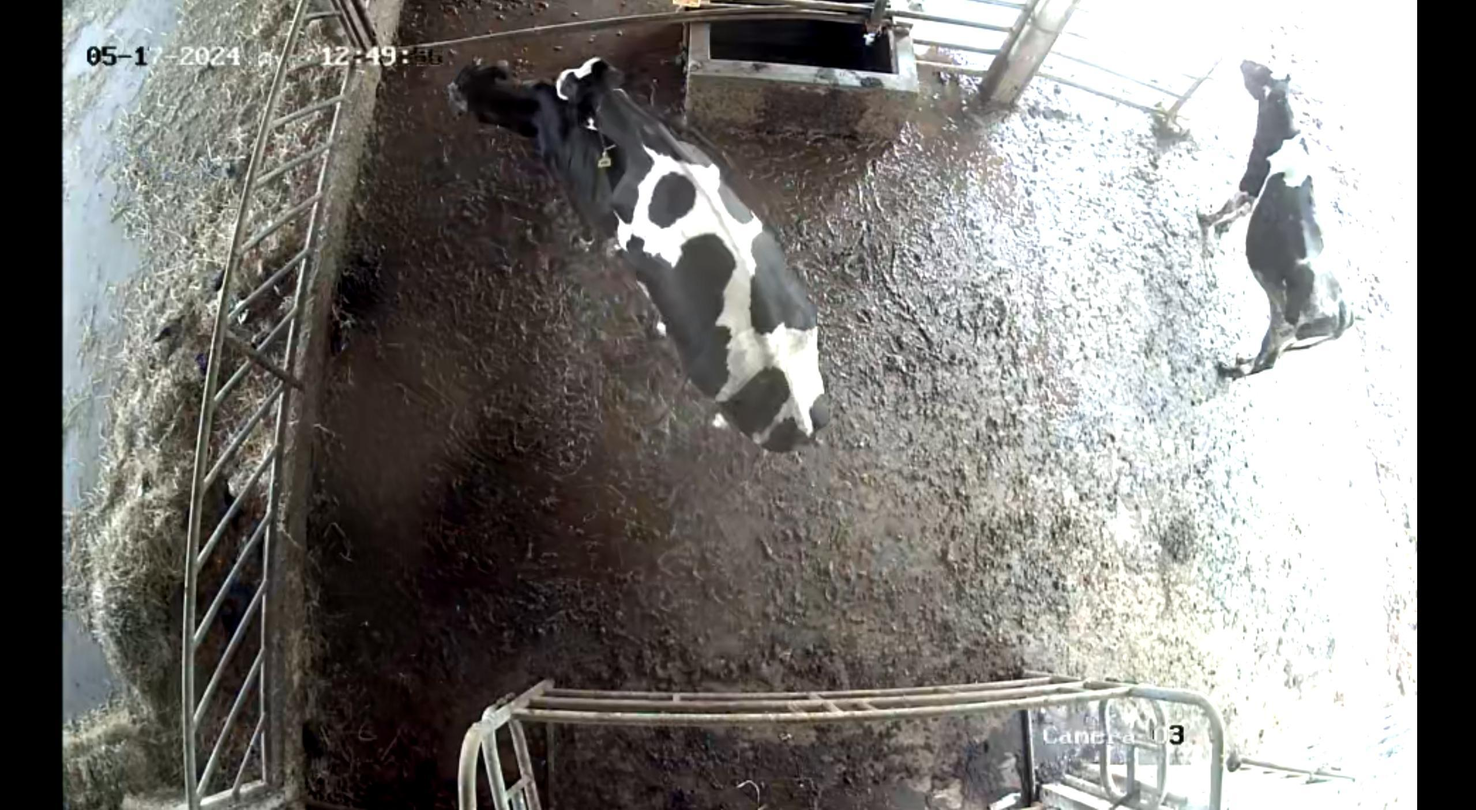ride: (554, 55, 837, 479)
stand: (1170, 47, 1360, 406), (443, 55, 632, 269)
